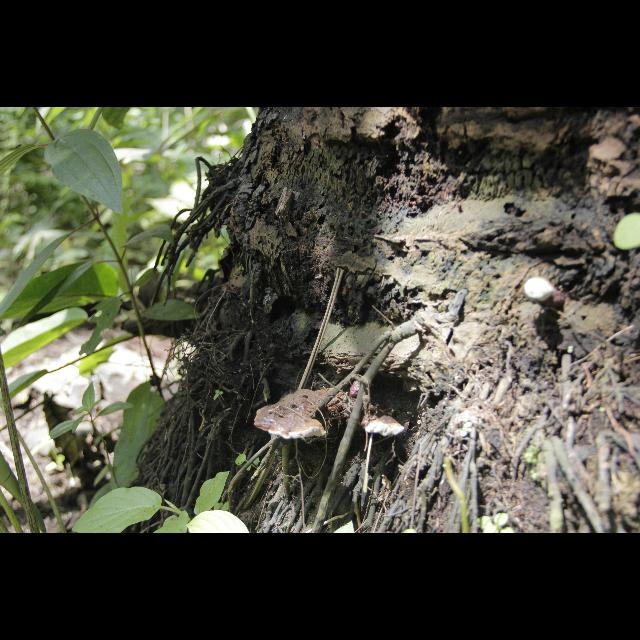ganoderma: (255, 389, 338, 441), (362, 408, 406, 438)
primordium: (525, 278, 555, 305)
